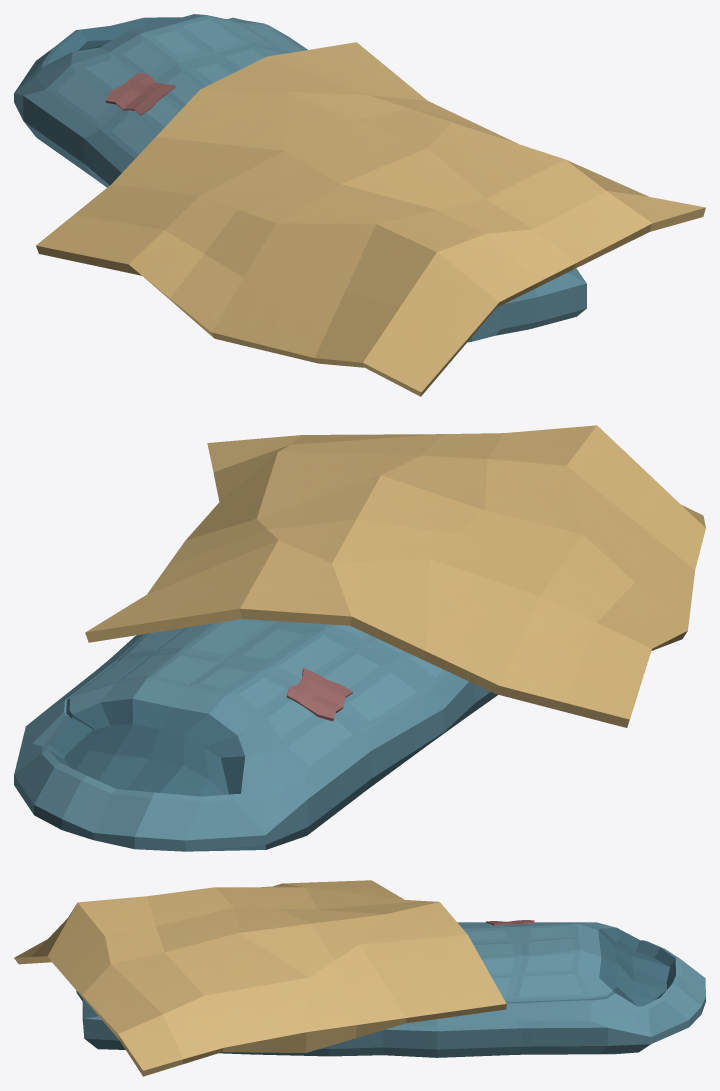
The model's file is sleeping_bag.glb.
3 views of the same model, one above another, from view 1: azimuth 30°, elevation 25°; view 2: azimuth 150°, elevation 25°; view 3: azimuth 270°, elevation 25° (orthographic). The views are drawn at different scales.
Parts seen in each view (by area): view 1: blanket, sleeping_bag; view 2: blanket, sleeping_bag; view 3: blanket, sleeping_bag.
Part boxes in pixels (x1=…): blanket: x1=36, y1=42, x2=705, y2=396; sleeping_bag: x1=14, y1=14, x2=586, y2=342; blanket: x1=85, y1=425, x2=705, y2=727; sleeping_bag: x1=14, y1=619, x2=497, y2=851; blanket: x1=14, y1=880, x2=506, y2=1076; sleeping_bag: x1=76, y1=920, x2=705, y2=1057.
Bounding box in the file's own units: 1.61 × 0.3618 × 2.33.
1 material, 1 textured.
